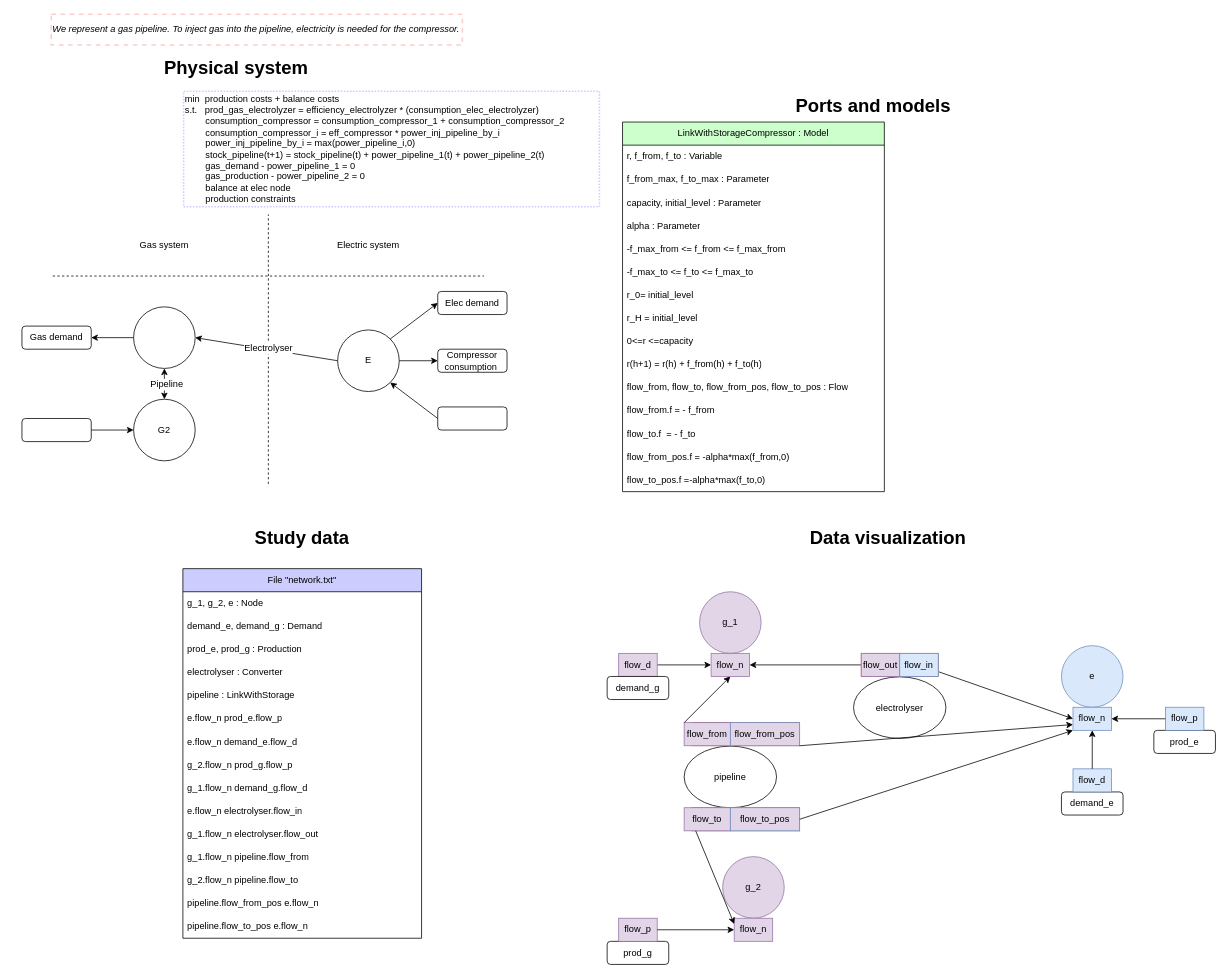
Some shapes in this 1229 by 978 pixel diagram are drawn without their labels. The centre of each missing label's shape, as x and y in pixels:
"Elec production" belongs at pixel 472 418.
"G1" belongs at pixel 164 337.
"Gas production" belongs at pixel 56 430.
